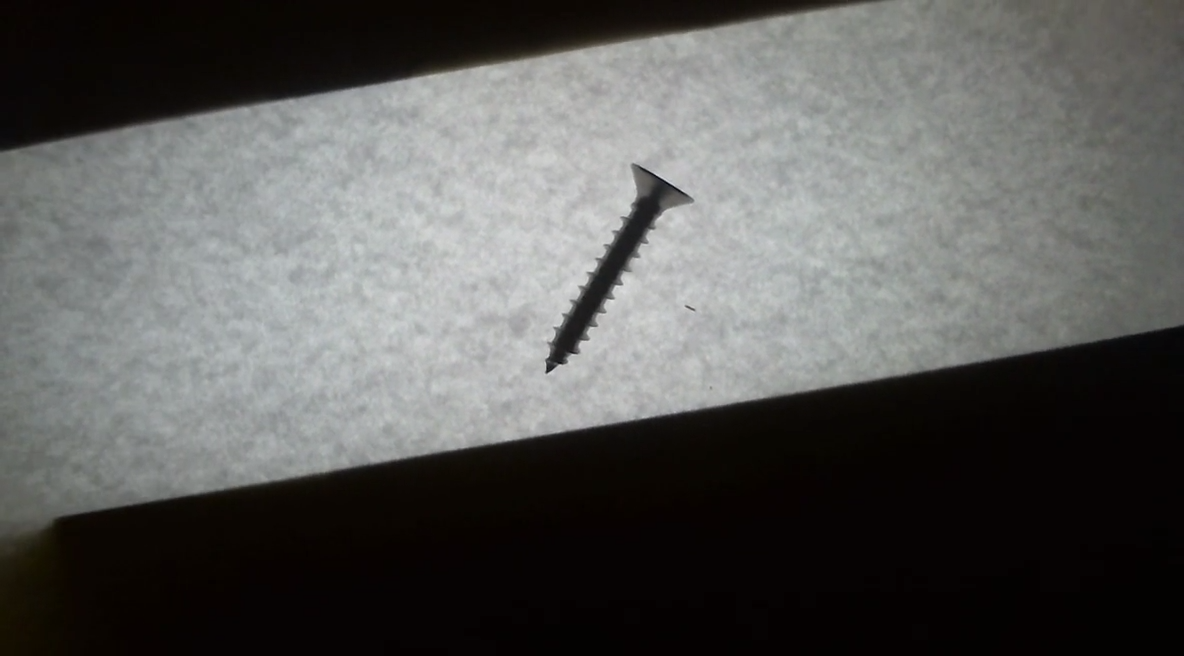S001: (512, 152, 716, 383)
